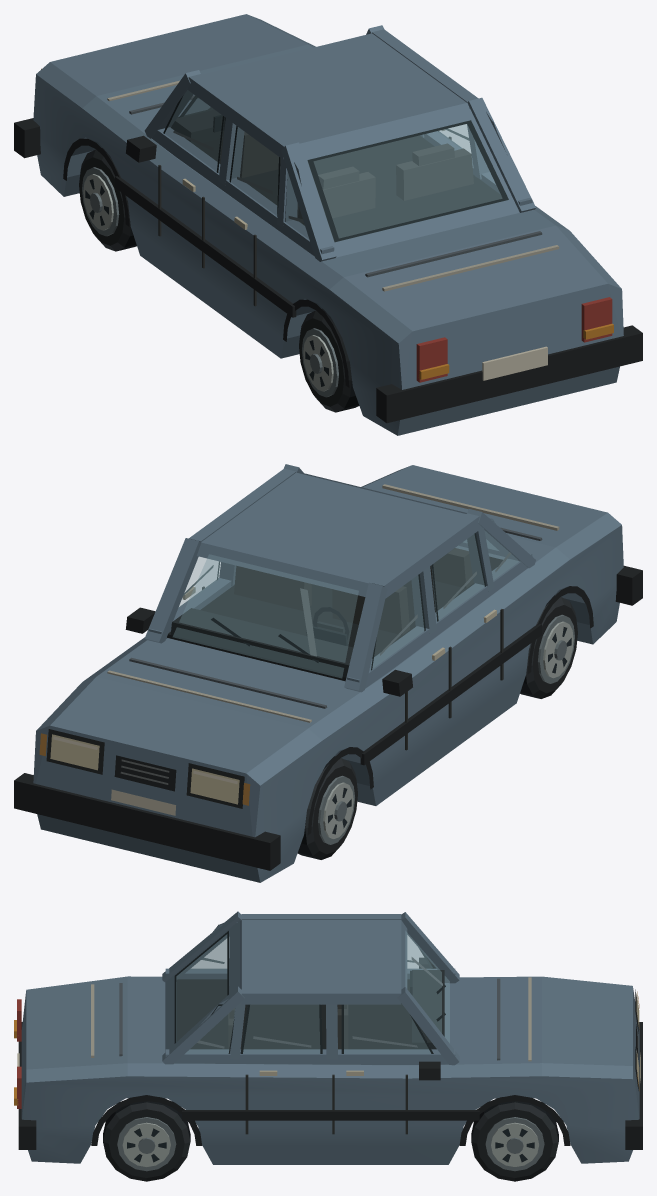
The model's file is berline_bleu_acier.glb.
3 views of the same model, one above another, from view 1: azimuth 30°, elevation 25°; view 2: azimuth 150°, elevation 25°; view 3: azimuth 270°, elevation 25° (orthographic). The views are drawn at different scales.
Parts seen in each view (by area): view 1: proposition_berline_bleu_acier; view 2: proposition_berline_bleu_acier; view 3: proposition_berline_bleu_acier.
Part boxes in pixels (left/top/right/bottom): proposition_berline_bleu_acier: left=14, top=14, right=642, bottom=435; proposition_berline_bleu_acier: left=14, top=464, right=642, bottom=882; proposition_berline_bleu_acier: left=14, top=911, right=642, bottom=1181.
Bounding box in the file's own units: 1.96 × 1.5 × 4.65.
